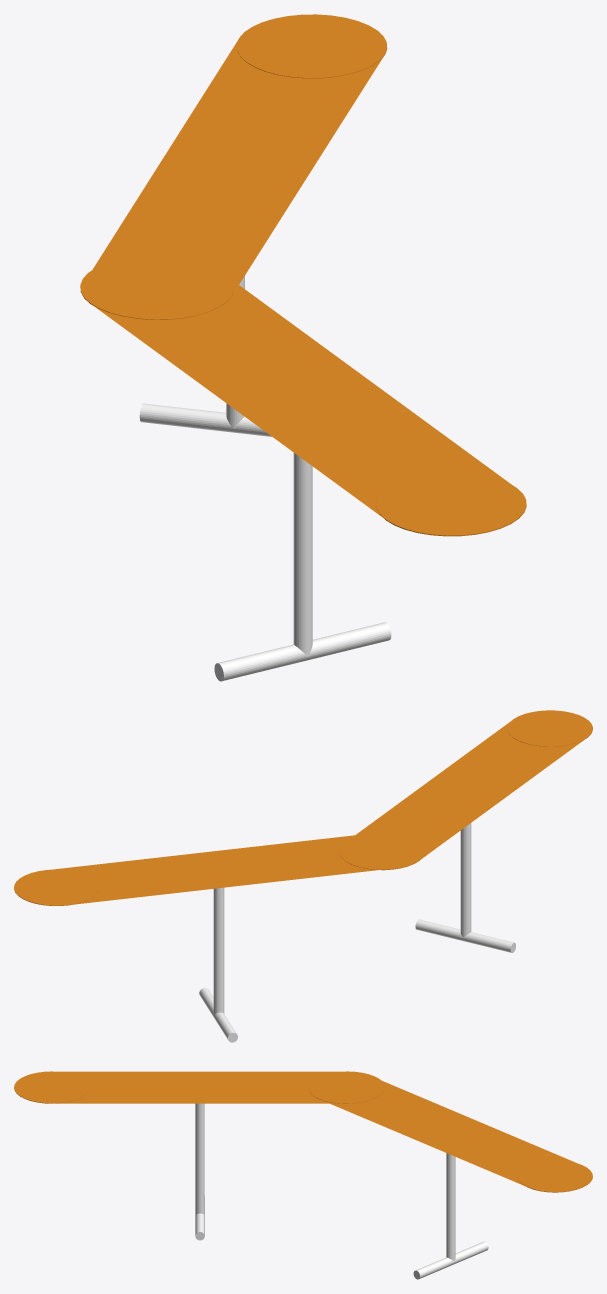
Rendered from path.fbx.
3 renders of one model, top to bottom at view 1: azimuth 30°, elevation 25°; view 2: azimuth 150°, elevation 25°; view 3: azimuth 270°, elevation 25°, orthographic. The views are drawn at different scales.
Visible parts, largest first — view 1: Cylinder.000; view 2: Cylinder.000; view 3: Cylinder.000.
Boxes of the visible parts, bbox=[...] form: Cylinder.000: bbox=[80, 14, 526, 681]; Cylinder.000: bbox=[14, 710, 592, 1042]; Cylinder.000: bbox=[14, 1071, 592, 1279].
Bounding box in the file's own units: 59.88 × 29.58 × 117.
